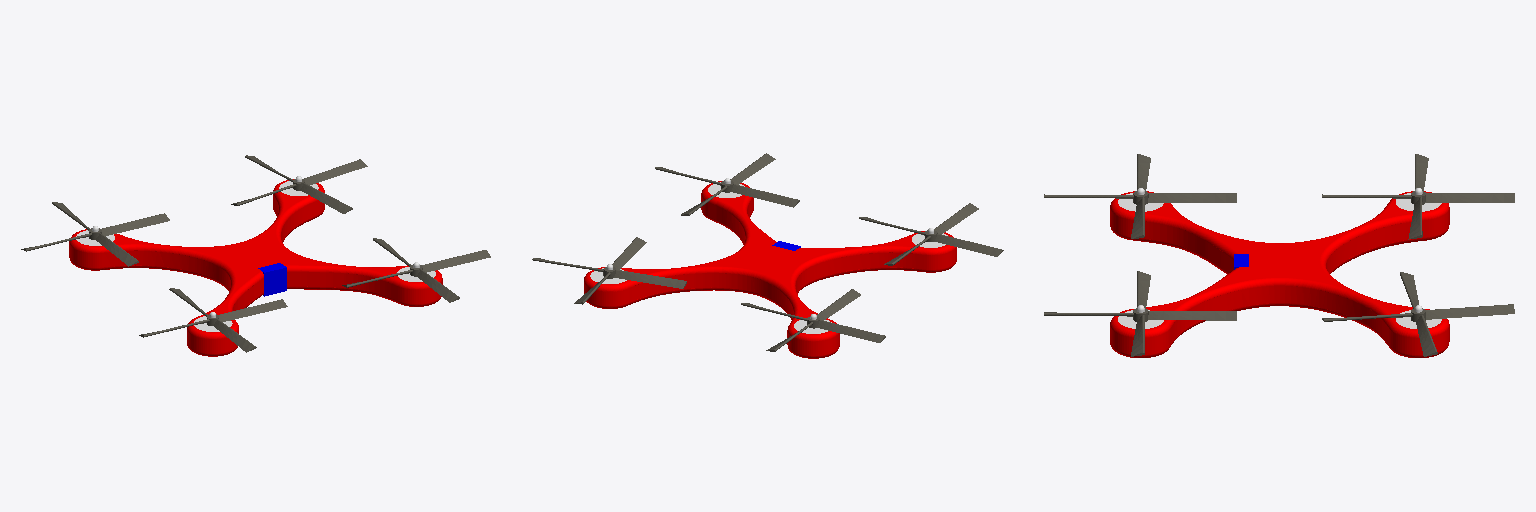
URDF robot description (drone):
<?xml version="1.0"?>
<!-- Generated using onshape-to-robot -->
<!-- Onshape
https://cad.onshape.com/documents/8ce9f31d0c89cc60c0292a4a/w/f89b084782826ebf4eea3b34/e/2ca1697785d5bc3856d06922 -->
<robot name="drone">

    <!-- Link link_drone_body -->
    <link name="link_drone_body">
        <inertial>
            <origin xyz="-0.000926792 0.00067141 -0.00117611" rpy="0 0 0" />
            <mass value="0.27585" />
            <inertia ixx="0.000942851" ixy="-8.5525e-07" ixz="-2.499e-09" iyy="0.000944175"
                iyz="1.878e-09" izz="0.0018689" />
        </inertial>
        <!-- Part link_drone_body -->
        <visual>
            <origin xyz="-0.000969365 0.000643159 -0.0111761" rpy="0 -0 0" />
            <geometry>
                <mesh filename="package://assets/link_drone_body.stl" />
            </geometry>
            <material name="link_drone_body_material">
                <color rgba="1 0 0 1" />
            </material>
        </visual>
        <collision>
            <origin xyz="-0.000969365 0.000643159 -0.0111761" rpy="0 -0 0" />
            <geometry>
                <mesh filename="package://assets/link_drone_body.stl" />
            </geometry>
        </collision>
    </link>

    <!-- Link link_motor_fl -->
    <link name="link_motor_fl">
        <inertial>
            <origin xyz="0 -0 -0.0101836" rpy="0 0 0" />
            <mass value="0.114967" />
            <inertia ixx="1.04865e-05" ixy="0" ixz="0" iyy="1.04865e-05" iyz="0" izz="1.27755e-05" />
        </inertial>
        <!-- Part link_motor_fl -->
        <visual>
            <origin xyz="-0.09 -0.09 0" rpy="3.14159 -0 0" />
            <geometry>
                <mesh filename="package://assets/link_motor_fl.stl" />
            </geometry>
            <material name="link_motor_fl_material">
                <color rgba="0.917647 0.917647 0.917647 1" />
            </material>
        </visual>
        <collision>
            <origin xyz="-0.09 -0.09 0" rpy="3.14159 -0 0" />
            <geometry>
                <mesh filename="package://assets/link_motor_fl.stl" />
            </geometry>
        </collision>
    </link>

    <!-- Link link_rotor_fl -->
    <link name="link_rotor_fl">
        <inertial>
            <origin xyz="-0 0 0.00360712" rpy="0 0 0" />
            <mass value="0.01" />
            <inertia ixx="6.49463e-06" ixy="0" ixz="0" iyy="6.49463e-06" iyz="0" izz="1.29653e-05" />
        </inertial>
        <!-- Part link_rotor_fl -->
        <visual>
            <origin xyz="0.0025 0.0015 0.0045" rpy="0 -0 0" />
            <geometry>
                <mesh filename="package://assets/link_rotor_fl.stl" />
            </geometry>
            <material name="link_rotor_fl_material">
                <color rgba="0.4 0.388235 0.34902 1" />
            </material>
        </visual>
        <collision>
            <origin xyz="0.0025 0.0015 0.0045" rpy="0 -0 0" />
            <geometry>
                <mesh filename="package://assets/link_rotor_fl.stl" />
            </geometry>
        </collision>
    </link>


    <!-- Joint from link_drone_body to link_motor_fl -->
    <joint name="joint_motor_FL" type="fixed">
        <origin xyz="0.0890306 -0.0893568 -0.0111761" rpy="3.14159 -0 0" />
        <parent link="link_drone_body" />
        <child link="link_motor_fl" />
        <axis xyz="0 0 1" />
        <limit effort="10" velocity="10" />
    </joint>

    <!-- Link link_motor_rl -->
    <link name="link_motor_rl">
        <inertial>
            <origin xyz="0 0 -0.0101836" rpy="0 0 0" />
            <mass value="0.114967" />
            <inertia ixx="1.04865e-05" ixy="0" ixz="0" iyy="1.04865e-05" iyz="0" izz="1.27755e-05" />
        </inertial>
        <!-- Part link_motor_rl -->
        <visual>
            <origin xyz="-0.09 0.09 0" rpy="3.14159 -0 0" />
            <geometry>
                <mesh filename="package://assets/link_motor_rl.stl" />
            </geometry>
            <material name="link_motor_rl_material">
                <color rgba="0.917647 0.917647 0.917647 1" />
            </material>
        </visual>
        <collision>
            <origin xyz="-0.09 0.09 0" rpy="3.14159 -0 0" />
            <geometry>
                <mesh filename="package://assets/link_motor_rl.stl" />
            </geometry>
        </collision>
    </link>

    <!-- Link link_rotor_rl -->
    <link name="link_rotor_rl">
        <inertial>
            <origin xyz="-0 -0 0.00360712" rpy="0 0 0" />
            <mass value="0.01" />
            <inertia ixx="6.49463e-06" ixy="0" ixz="0" iyy="6.49463e-06" iyz="0" izz="1.29653e-05" />
        </inertial>
        <!-- Part link_rotor_rl -->
        <visual>
            <origin xyz="0.0025 0.0015 -0.0455" rpy="0 -0 0" />
            <geometry>
                <mesh filename="package://assets/link_rotor_rl.stl" />
            </geometry>
            <material name="link_rotor_rl_material">
                <color rgba="0.4 0.388235 0.34902 1" />
            </material>
        </visual>
        <collision>
            <origin xyz="0.0025 0.0015 -0.0455" rpy="0 -0 0" />
            <geometry>
                <mesh filename="package://assets/link_rotor_rl.stl" />
            </geometry>
        </collision>
    </link>

    <!-- Joint from link_drone_body to link_motor_rl -->
    <joint name="joint_motor_RL" type="fixed">
        <origin xyz="0.0890306 0.0906432 -0.0111761" rpy="3.14159 -0 0" />
        <parent link="link_drone_body" />
        <child link="link_motor_rl" />
        <axis xyz="0 0 1" />
        <limit effort="10" velocity="10" />
    </joint>

    <!-- Link link_motor_rr -->
    <link name="link_motor_rr">
        <inertial>
            <origin xyz="0 0 -0.0101836" rpy="0 0 0" />
            <mass value="0.114967" />
            <inertia ixx="1.04865e-05" ixy="0" ixz="0" iyy="1.04865e-05" iyz="0" izz="1.27755e-05" />
        </inertial>
        <!-- Part link_motor_rr -->
        <visual>
            <origin xyz="0.09 0.09 0" rpy="3.14159 -0 0" />
            <geometry>
                <mesh filename="package://assets/link_motor_rr.stl" />
            </geometry>
            <material name="link_motor_rr_material">
                <color rgba="0.917647 0.917647 0.917647 1" />
            </material>
        </visual>
        <collision>
            <origin xyz="0.09 0.09 0" rpy="3.14159 -0 0" />
            <geometry>
                <mesh filename="package://assets/link_motor_rr.stl" />
            </geometry>
        </collision>
    </link>

    <!-- Link link_rotor_rr -->
    <link name="link_rotor_rr">
        <inertial>
            <origin xyz="0 0 0.00360712" rpy="0 0 0" />
            <mass value="0.01" />
            <inertia ixx="6.49463e-06" ixy="0" ixz="0" iyy="6.49463e-06" iyz="0" izz="1.29653e-05" />
        </inertial>
        <!-- Part link_rotor_rr -->
        <visual>
            <origin xyz="0.0025 0.0015 -0.0705" rpy="0 -0 0" />
            <geometry>
                <mesh filename="package://assets/link_rotor_rr.stl" />
            </geometry>
            <material name="link_rotor_rr_material">
                <color rgba="0.4 0.388235 0.34902 1" />
            </material>
        </visual>
        <collision>
            <origin xyz="0.0025 0.0015 -0.0705" rpy="0 -0 0" />
            <geometry>
                <mesh filename="package://assets/link_rotor_rr.stl" />
            </geometry>
        </collision>
    </link>

    <!-- Joint from link_drone_body to link_motor_rr -->
    <joint name="joint_motor_RR" type="fixed">
        <origin xyz="-0.0909694 0.0906432 -0.0111761" rpy="3.14159 -0 0" />
        <parent link="link_drone_body" />
        <child link="link_motor_rr" />
        <axis xyz="0 0 1" />
        <limit effort="10" velocity="10" />
    </joint>

    <!-- Link link_motor_fr -->
    <link name="link_motor_fr">
        <inertial>
            <origin xyz="0 -0 -0.0101836" rpy="0 0 0" />
            <mass value="0.114967" />
            <inertia ixx="1.04865e-05" ixy="0" ixz="0" iyy="1.04865e-05" iyz="0" izz="1.27755e-05" />
        </inertial>
        <!-- Part link_motor_fr -->
        <visual>
            <origin xyz="0.09 -0.09 0" rpy="3.14159 -0 0" />
            <geometry>
                <mesh filename="package://assets/link_motor_fr.stl" />
            </geometry>
            <material name="link_motor_fr_material">
                <color rgba="0.917647 0.917647 0.917647 1" />
            </material>
        </visual>
        <collision>
            <origin xyz="0.09 -0.09 0" rpy="3.14159 -0 0" />
            <geometry>
                <mesh filename="package://assets/link_motor_fr.stl" />
            </geometry>
        </collision>
    </link>

    <!-- Link link_rotor_fr -->
    <link name="link_rotor_fr">
        <inertial>
            <origin xyz="-0 0 0.00360712" rpy="0 0 0" />
            <mass value="0.01" />
            <inertia ixx="6.49463e-06" ixy="0" ixz="0" iyy="6.49463e-06" iyz="0" izz="1.29653e-05" />
        </inertial>
        <!-- Part link_rotor_fr -->
        <visual>
            <origin xyz="0.0025 0.0015 -0.0205" rpy="0 -0 0" />
            <geometry>
                <mesh filename="package://assets/link_rotor_fr.stl" />
            </geometry>
            <material name="link_rotor_fr_material">
                <color rgba="0.4 0.388235 0.34902 1" />
            </material>
        </visual>
        <collision>
            <origin xyz="0.0025 0.0015 -0.0205" rpy="0 -0 0" />
            <geometry>
                <mesh filename="package://assets/link_rotor_fr.stl" />
            </geometry>
        </collision>
    </link>

    <!-- Joint from link_drone_body to link_motor_fr -->
    <joint name="joint_motor_FR" type="fixed">
        <origin xyz="-0.0909694 -0.0893568 -0.0111761" rpy="3.14159 -0 0" />
        <parent link="link_drone_body" />
        <child link="link_motor_fr" />
        <axis xyz="0 0 1" />
        <limit effort="10" velocity="10" />
    </joint>

    <!-- Link link_imu -->
    <link name="link_imu">
        <inertial>
            <origin xyz="0 0 -0.0025" rpy="0 0 0" />
            <mass value="0.01" />
            <inertia ixx="1.04167e-07" ixy="0" ixz="0" iyy="1.04167e-07" iyz="0" izz="1.66667e-07" />
        </inertial>
        <!-- Part link_imu -->
        <visual>
            <origin xyz="-0 -0 0" rpy="3.14159 -0 0" />
            <geometry>
                <mesh filename="package://assets/link_imu.stl" />
            </geometry>
            <material name="link_imu_material">
                <color rgba="0.980392 0.713725 0.00392157 1" />
            </material>
        </visual>
        <collision>
            <origin xyz="-0 -0 0" rpy="3.14159 -0 0" />
            <geometry>
                <mesh filename="package://assets/link_imu.stl" />
            </geometry>
        </collision>
    </link>

    <!-- ROTOR JOINTS -->
    <!-- Joint from link_motor_fl to link_rotor_fl -->
    <joint name="joint_rotor_FL" type="continuous">
        <origin xyz="0 0 -0.02" rpy="3.14159 -0 0" />
        <parent link="link_motor_fl" />
        <child link="link_rotor_fl" />
        <axis xyz="0 0 1" />
        <limit effort="10" velocity="1000" />
    </joint>

    <!-- Joint from link_motor_rl to link_rotor_rl -->
    <joint name="joint_rotor_RL" type="continuous">
        <origin xyz="0 -0 -0.02" rpy="3.14159 -0 -0.160013" />
        <parent link="link_motor_rl" />
        <child link="link_rotor_rl" />
        <axis xyz="0 0 1" />
        <limit effort="10" velocity="1000" />
    </joint>

    <!-- Joint from link_motor_rr to link_rotor_rr -->
    <joint name="joint_rotor_RR" type="continuous">
        <origin xyz="0 0 -0.02" rpy="3.14159 -0 0" />
        <parent link="link_motor_rr" />
        <child link="link_rotor_rr" />
        <axis xyz="0 0 1" />
        <limit effort="10" velocity="1000" />
    </joint>

    <!-- Joint from link_motor_fr to link_rotor_fr -->
    <joint name="joint_rotor_FR" type="continuous">
        <origin xyz="0 0 -0.02" rpy="3.14159 -0 0" />
        <parent link="link_motor_fr" />
        <child link="link_rotor_fr" />
        <axis xyz="0 0 1" />
        <limit effort="10" velocity="1000" />
    </joint>

    <!-- Joint from link_drone_body to link_imu -->
    <joint name="joint_imu" type="fixed">
        <origin xyz="-0.000969365 0.000643159 -0.00617609" rpy="3.14159 -0 0" />
        <parent link="link_drone_body" />
        <child link="link_imu" />
        <axis xyz="0 0 1" />
        <limit effort="10" velocity="10" />
    </joint>

    <!-- Link link_camera -->
    <link name="link_camera">
        <inertial>
            <origin xyz="-0 0 -0.005" rpy="0 0 0" />
            <mass value="0.01" />
            <inertia ixx="4.16667e-07" ixy="0" ixz="0" iyy="4.16667e-07" iyz="0" izz="6.66667e-07" />
        </inertial>
        <!-- Part link_camera -->
        <visual>
            <origin xyz="-0 -0 -0" rpy="1.5708 -0 0" />
            <geometry>
                <mesh filename="package://assets/link_camera.stl" />
            </geometry>
            <material name="link_camera_material">
                <color rgba="0 0 1 1" />
            </material>
        </visual>
        <collision>
            <origin xyz="-0 -0 -0" rpy="1.5708 -0 0" />
            <geometry>
                <mesh filename="package://assets/link_camera.stl" />
            </geometry>
        </collision>
    </link>

    <!-- Joint from link_drone_body to link_camera -->
    <joint name="joint_camera" type="fixed">
        <origin xyz="-0.000969365 -0.0193568 -0.00117609" rpy="-1.5708 -0 -0" />
        <parent link="link_drone_body" />
        <child link="link_camera" />
        <axis xyz="0 0 1" />
        <limit effort="10" velocity="10" />
    </joint>

    <!-- GAZEBO -->
    <gazebo reference="link_rotor_fr">
        <plugin name="rotor_fr_thrust" filename="libgazebo_ros_force.so">
            <updateRate>100.0</updateRate>
            <robotNamespace>/</robotNamespace>
            <bodyName>link_rotor_fr</bodyName>
            <topicName>rotor_fr_thrust</topicName>
            <broadcastTF>true</broadcastTF>
        </plugin>
    </gazebo>

    <gazebo reference="link_rotor_fl">
        <plugin name="rotor_fl_thrust" filename="libgazebo_ros_force.so">
            <updateRate>100.0</updateRate>
            <robotNamespace>/</robotNamespace>
            <bodyName>link_rotor_fl</bodyName>
            <topicName>rotor_fl_thrust</topicName>
            <broadcastTF>true</broadcastTF>
        </plugin>
    </gazebo>

    <gazebo reference="link_rotor_rr">
        <plugin name="rotor_rr_thrust" filename="libgazebo_ros_force.so">
            <updateRate>100.0</updateRate>
            <robotNamespace>/</robotNamespace>
            <bodyName>link_rotor_rr</bodyName>
            <topicName>rotor_rr_thrust</topicName>
            <broadcastTF>true</broadcastTF>
        </plugin>
    </gazebo>

    <gazebo reference="link_rotor_rl">
        <plugin name="rotor_rl_thrust" filename="libgazebo_ros_force.so">
            <updateRate>100.0</updateRate>
            <robotNamespace>/</robotNamespace>
            <bodyName>link_rotor_rl</bodyName>
            <topicName>rotor_rl_thrust</topicName>
            <broadcastTF>true</broadcastTF>
        </plugin>
    </gazebo>

    <gazebo reference="link_imu">
        <gravity>true</gravity>
        <sensor name="imu_sensor" type="imu">
            <always_on>true</always_on>
            <update_rate>100</update_rate>
            <visualize>true</visualize>
            <topic>__default_topic__</topic>
            <plugin filename="libgazebo_ros_imu_sensor.so" name="imu_plugin">
                <topicName>imu</topicName>
                <bodyName>link_imu</bodyName>
                <updateRateHZ>100.0</updateRateHZ>
                <gaussianNoise>0.0</gaussianNoise>
                <xyzOffset>0 0 0</xyzOffset>
                <rpyOffset>0 0 0</rpyOffset>
                <frameName>link_imu</frameName>
                <initialOrientationAsReference>false</initialOrientationAsReference>
            </plugin>
            <pose>0 0 0 0 0 0</pose>
        </sensor>
    </gazebo>

    <gazebo reference="link_camera">
        <sensor type="camera" name="camera1">
            <update_rate>30.0</update_rate>
            <camera name="head">
                <horizontal_fov>1.3962634</horizontal_fov>
                <image>
                    <width>800</width>
                    <height>800</height>
                    <format>R8G8B8</format>
                </image>
                <clip>
                    <near>0.02</near>
                    <far>300</far>
                </clip>
                <noise>
                    <type>gaussian</type>
                    <!-- Noise is sampled independently per pixel on each frame.
               That pixel's noise value is added to each of its color
               channels, which at that point lie in the range [0,1]. -->
                    <mean>0.0</mean>
                    <stddev>0.007</stddev>
                </noise>
            </camera>
            <plugin name="camera_controller" filename="libgazebo_ros_camera.so">
                <alwaysOn>true</alwaysOn>
                <updateRate>0.0</updateRate>
                <cameraName>drone/camera1</cameraName>
                <imageTopicName>image_raw</imageTopicName>
                <cameraInfoTopicName>camera_info</cameraInfoTopicName>
                <frameName>link_camera</frameName>
                <hackBaseline>0.07</hackBaseline>
                <distortionK1>0.0</distortionK1>
                <distortionK2>0.0</distortionK2>
                <distortionK3>0.0</distortionK3>
                <distortionT1>0.0</distortionT1>
                <distortionT2>0.0</distortionT2>
            </plugin>
        </sensor>
    </gazebo>
</robot>

--- Facts derived from the render (not from the file) ---
3 views of the same robot in one strip: view 1: azimuth 30°, elevation 25°; view 2: azimuth 150°, elevation 25°; view 3: azimuth 270°, elevation 25° (orthographic).
Robot: drone — 11 links, 10 joints (4 continuous, 6 fixed); root link link_drone_body; default pose: all joints at 0.
Visible links, largest first — view 1: link_drone_body, link_rotor_rr, link_rotor_fl, link_rotor_fr, link_rotor_rl, link_camera; view 2: link_drone_body, link_rotor_rl, link_rotor_fl, link_rotor_rr, link_rotor_fr; view 3: link_drone_body, link_rotor_fr, link_rotor_rl, link_rotor_rr, link_rotor_fl.
Link boxes in pixels (bbox=[...]): link_drone_body: bbox=[69, 179, 442, 356]; link_rotor_rr: bbox=[21, 202, 169, 266]; link_rotor_fl: bbox=[342, 238, 490, 302]; link_rotor_fr: bbox=[139, 288, 287, 352]; link_rotor_rl: bbox=[231, 155, 367, 213]; link_camera: bbox=[258, 263, 286, 296]; link_drone_body: bbox=[584, 181, 956, 358]; link_rotor_rl: bbox=[532, 237, 686, 304]; link_rotor_fl: bbox=[655, 153, 799, 215]; link_rotor_rr: bbox=[741, 289, 885, 351]; link_rotor_fr: bbox=[859, 203, 1003, 265]; link_drone_body: bbox=[1110, 191, 1449, 357]; link_rotor_fr: bbox=[1044, 154, 1236, 238]; link_rotor_rl: bbox=[1322, 272, 1514, 356]; link_rotor_rr: bbox=[1322, 154, 1514, 239]; link_rotor_fl: bbox=[1044, 271, 1236, 356].
Size in the robot's own frame: 0.3053 by 0.3053 by 0.03 metres.
Meshes: 11 distinct files referenced, 11 mesh visuals loaded (11 binary STL).
